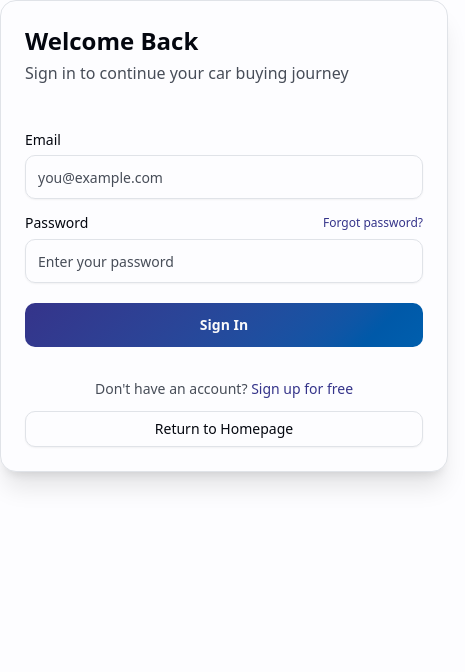
Test case: SignInForm — Frontend Behavioral Tests › Resend verification flow › shows success message after resend succeeds
This screenshot has width=465, height=672.
In the field labelled "Email": (224, 177) [25,155,423,199], type "unverified@example.com"
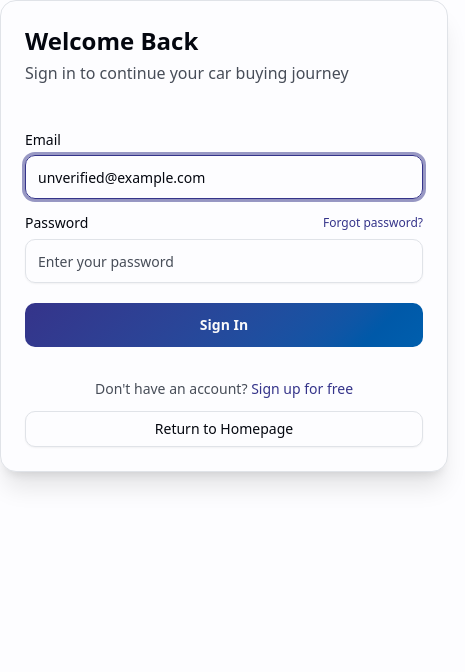
In the password field labelled "Password": (224, 261) [25,239,423,283], type "password123"
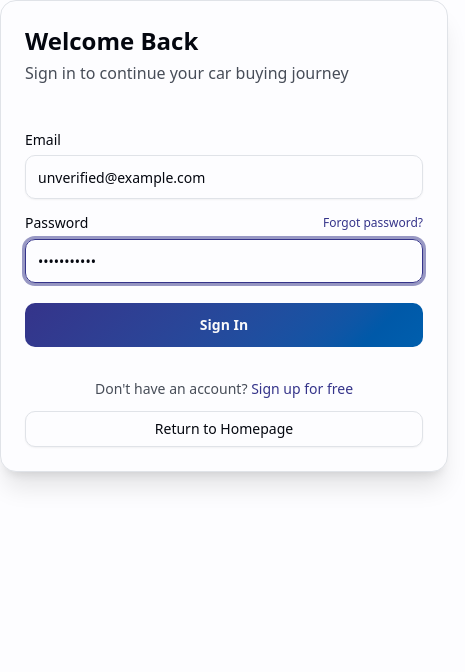
Click the button "Sign In": click(224, 325) [25,303,423,347]
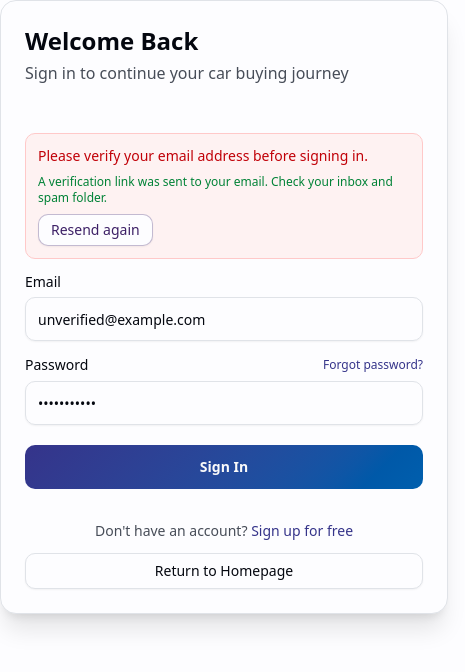
Expected: the button "Resend again" is shown
Click the button "Resend again": click(95, 230) [38,214,153,246]
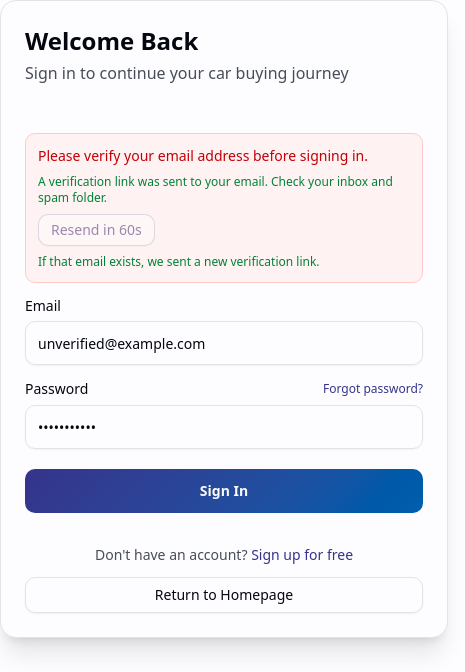
Expected: the text "If that email exists, we sent a new verification link." is shown, [38,253,320,270]
